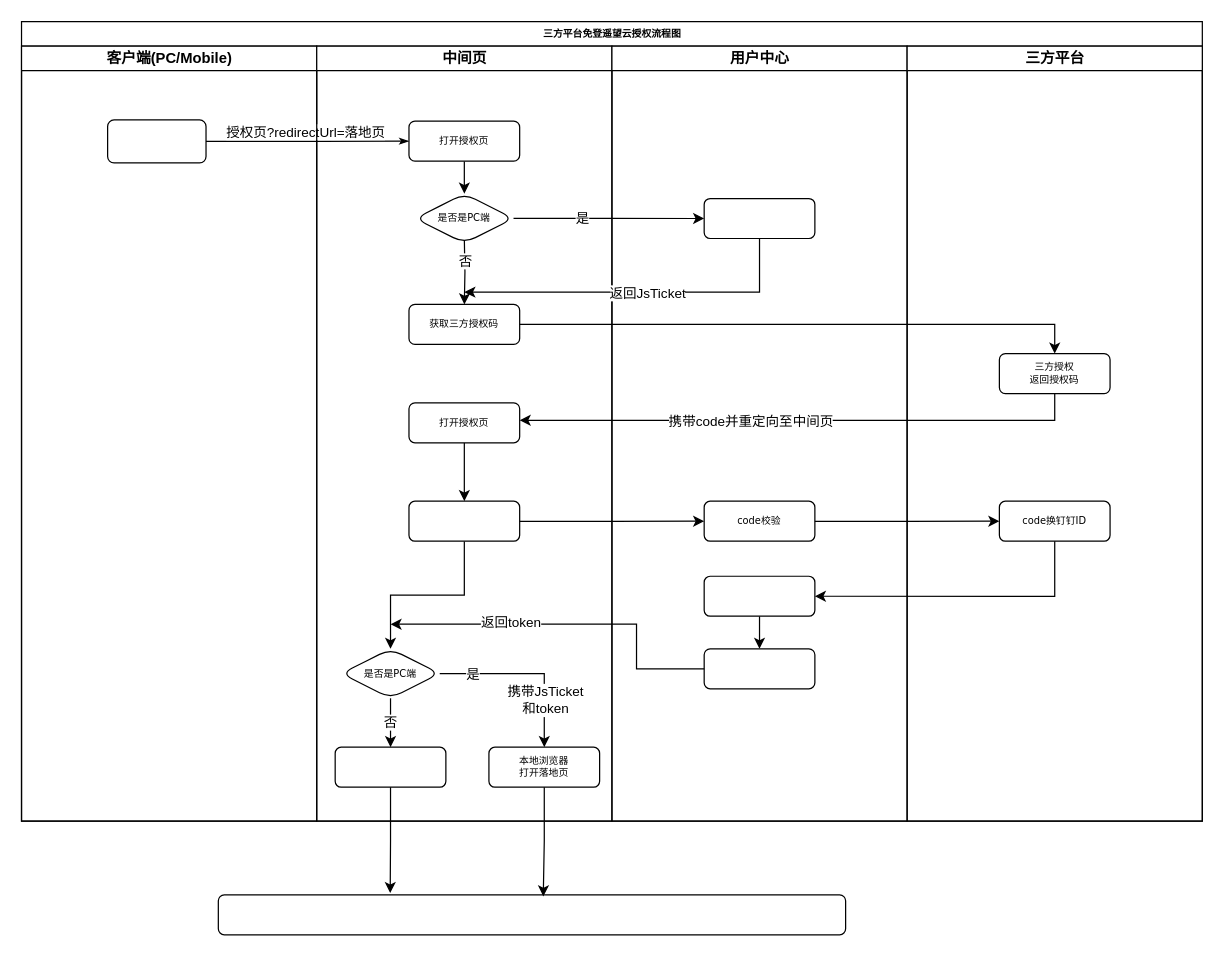
The diagram is 1224 pixels wide and 957 high, and some of its shapes have lost their labels. Each missing label, with the centre of its shape:
"End" goes at (x=531, y=914).
"内置浏览器 打开落地页" goes at (x=390, y=766).
"提供JsTicket" goes at (x=759, y=217).
"点击APP消息" goes at (x=156, y=141).
"生成登录token" goes at (x=759, y=668).
"遥望云免登流程" goes at (x=464, y=520).
"钉钉id转 遥望用户id" goes at (x=759, y=595).
